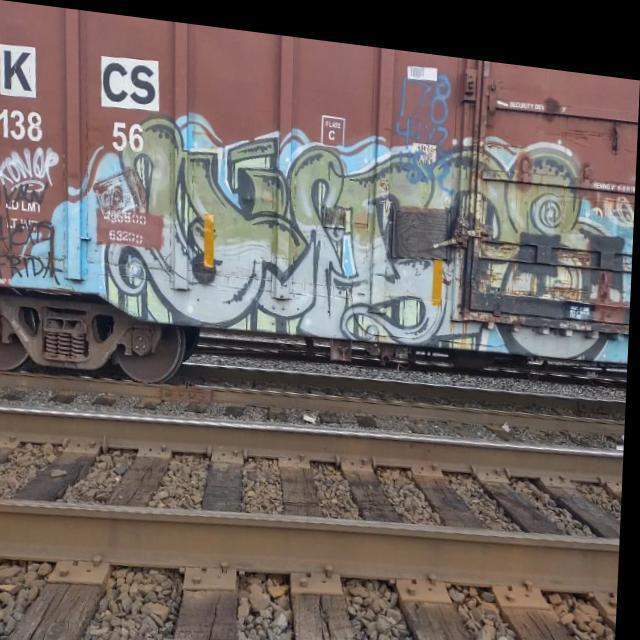-: (34, 91, 637, 363), (0, 31, 174, 154), (0, 144, 69, 285), (106, 198, 152, 246), (320, 98, 348, 140)
